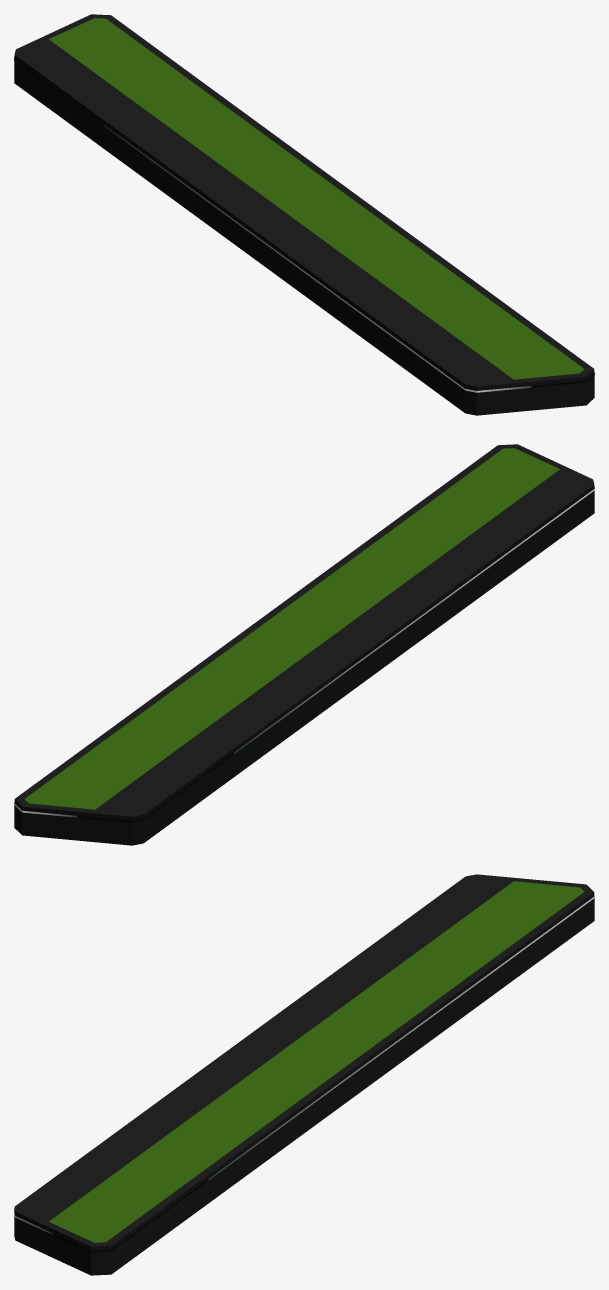
File: W_O_maze_Glassbed_L1.fbx
The picture shows the model from 3 angles, top to bottom: view 1: azimuth 30°, elevation 25°; view 2: azimuth 150°, elevation 25°; view 3: azimuth 330°, elevation 25°; orthographic projection.
Parts seen in each view (by area): view 1: W_O_maze_Glassbed_L1; view 2: W_O_maze_Glassbed_L1; view 3: W_O_maze_Glassbed_L1.
Boxes of the visible parts, box(x1,y1,x2,y2) form: W_O_maze_Glassbed_L1: box(14, 14, 594, 415); W_O_maze_Glassbed_L1: box(14, 444, 594, 845); W_O_maze_Glassbed_L1: box(14, 874, 594, 1275).
Bounding box in the file's own units: 0.8177 × 6.18 × 0.1977.
